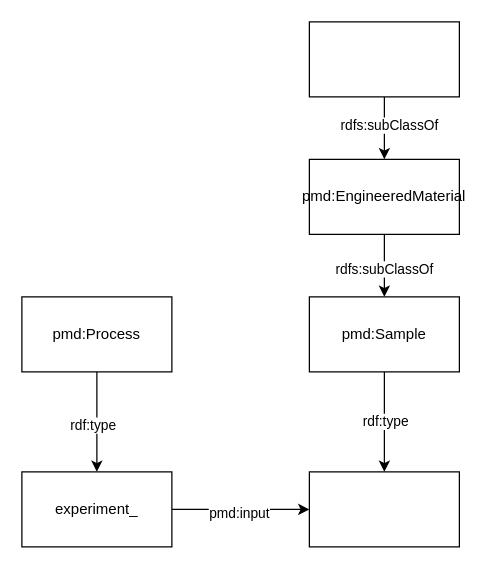
The diagram is 488 pixels wide and 569 high, and some of its shapes have lost their labels. The centre of each missing label's shape, as x and y in pixels:
"pmd:Object" belongs at [383,59].
"sample_" belongs at [383,509].
